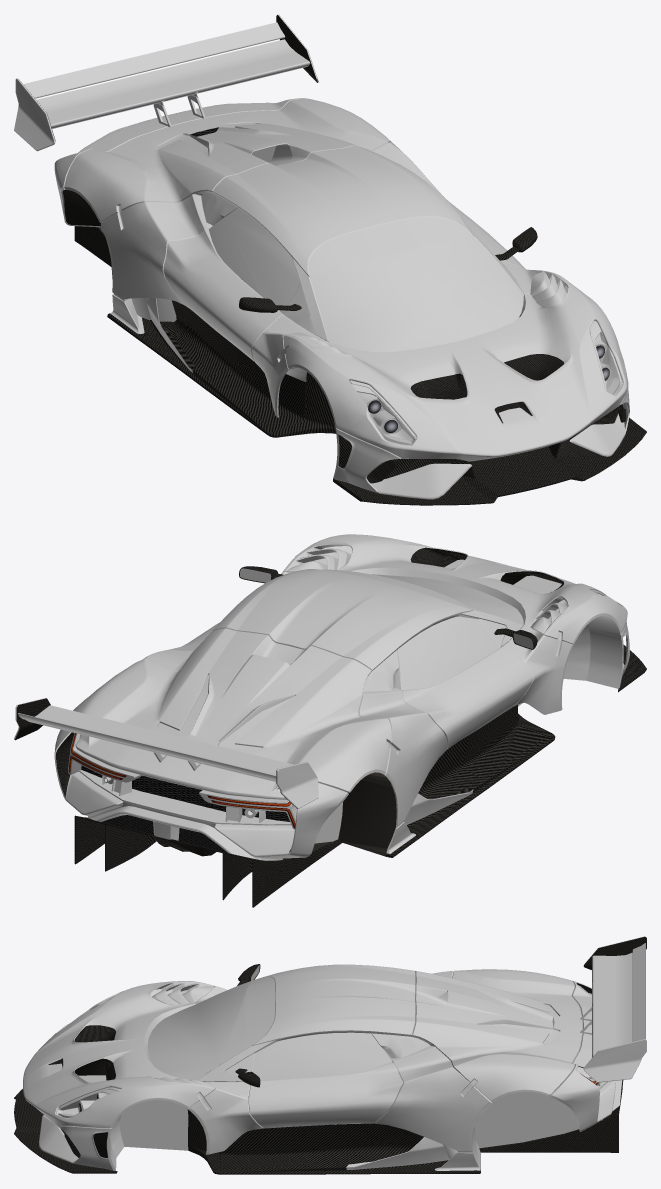
The model's file is New Cra.fbx.
3 renders of one model, top to bottom at view 1: azimuth 30°, elevation 25°; view 2: azimuth 150°, elevation 25°; view 3: azimuth 270°, elevation 25°, orthographic. The views are drawn at different scales.
Parts seen in each view (by area): view 1: BODY; view 2: BODY; view 3: BODY.
Part boxes in pixels (x1,y1,x2,y2): BODY: (14, 14, 646, 505); BODY: (14, 534, 646, 907); BODY: (14, 936, 646, 1174).
Size of the model in its own units: 277 by 146 by 638.
